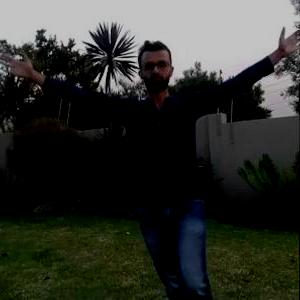takeoff: (9, 31, 297, 296)
